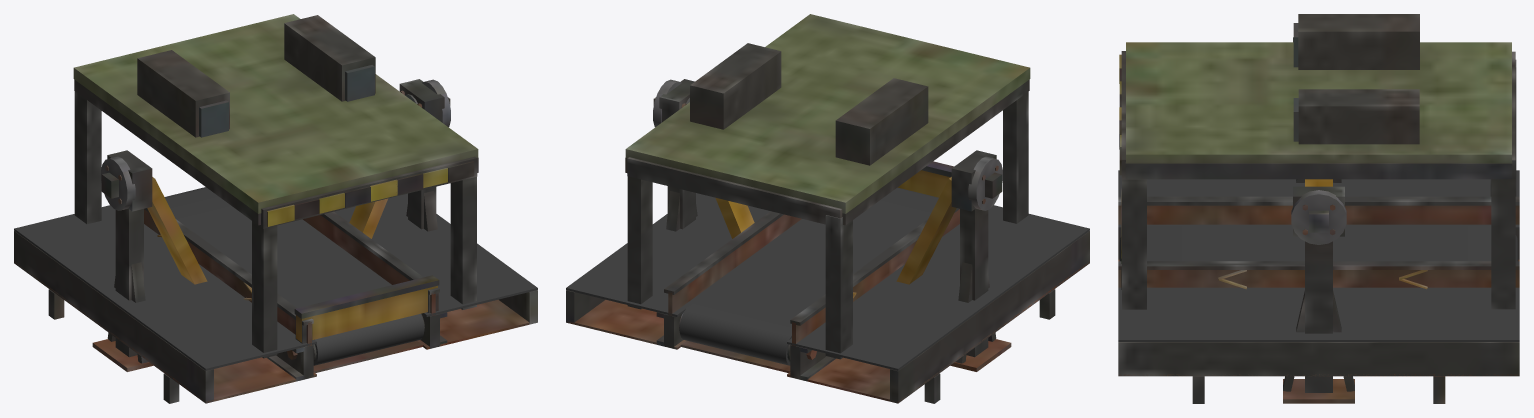
File: feBeltTunnel.glb
3 renders of one model, left to right at view 1: azimuth 30°, elevation 25°; view 2: azimuth 150°, elevation 25°; view 3: azimuth 270°, elevation 25°, orthographic. The views are drawn at different scales.
Visible parts, largest first — view 1: FeBeltExtra_Tunnel, FeBeltFill_R, FeBeltBed, FeBeltFill_L, FeBeltDrive_R, FeBeltEnd, FeRail_L, FeBeltDrive_L, FeRail_R, FeSpin_BeltDrive_R; view 2: FeBeltExtra_Tunnel, FeBeltFill_R, FeBeltBed, FeBeltFill_L, FeBeltDrive_R, FeRail_L, FeRail_R, FeBeltDrive_L, FeSpin_BeltDrive_R, FeBeltEnd; view 3: FeBeltExtra_Tunnel, FeBeltFill_L, FeBeltBed, FeRail_L, FeRail_R, FeBeltFill_R, FeBeltDrive_L, FeSpin_BeltDrive_L.
Part boxes in pixels (x1,y1,x2,y2): FeBeltExtra_Tunnel: (73, 14, 478, 358); FeBeltFill_R: (14, 205, 316, 403); FeBeltBed: (164, 187, 447, 381); FeBeltFill_L: (298, 193, 537, 349); FeBeltDrive_R: (92, 150, 207, 371); FeBeltEnd: (294, 275, 439, 363); FeRail_L: (303, 211, 439, 315); FeBeltDrive_L: (349, 79, 444, 238); FeRail_R: (144, 208, 313, 346); FeSpin_BeltDrive_R: (101, 156, 135, 210); FeBeltExtra_Tunnel: (625, 14, 1030, 359); FeBeltFill_R: (787, 205, 1089, 403); FeBeltBed: (656, 187, 938, 381); FeBeltFill_L: (566, 193, 805, 349); FeBeltDrive_R: (896, 150, 1011, 371); FeRail_L: (664, 211, 801, 315); FeRail_R: (790, 208, 959, 346); FeBeltDrive_L: (659, 79, 754, 238); FeSpin_BeltDrive_R: (968, 156, 1002, 210); FeBeltEnd: (897, 161, 953, 197); FeBeltExtra_Tunnel: (1119, 14, 1516, 309); FeBeltFill_L: (1118, 287, 1519, 403); FeBeltBed: (1118, 226, 1519, 261); FeRail_L: (1118, 261, 1519, 289); FeRail_R: (1118, 196, 1519, 224); FeBeltFill_R: (1118, 170, 1519, 261); FeBeltDrive_L: (1283, 186, 1354, 403); FeSpin_BeltDrive_L: (1291, 190, 1346, 244).
Size of the model in its own units: 1.02 by 0.7118 by 1.
Materials: 2 (1 with a texture image).
